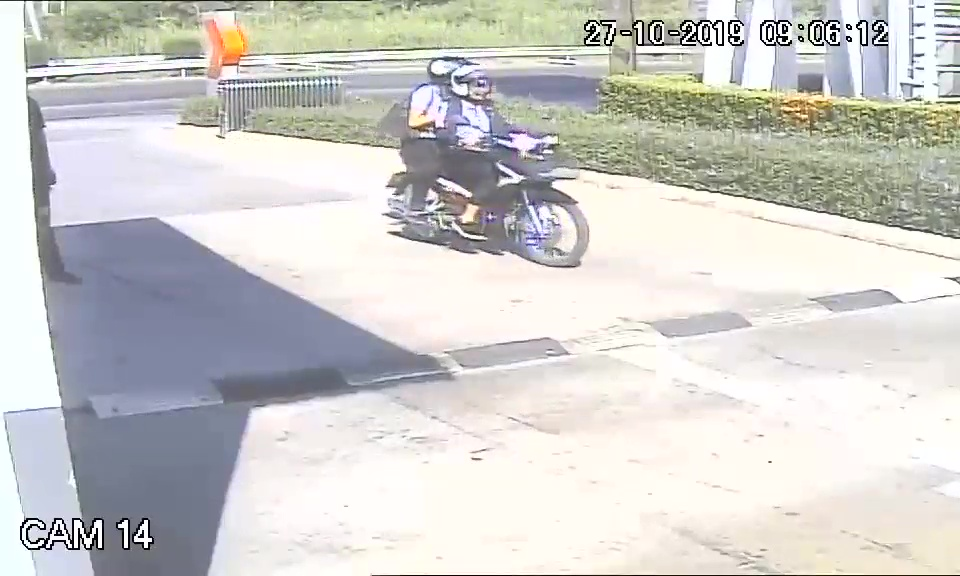motorcycle: (383, 126, 591, 268)
